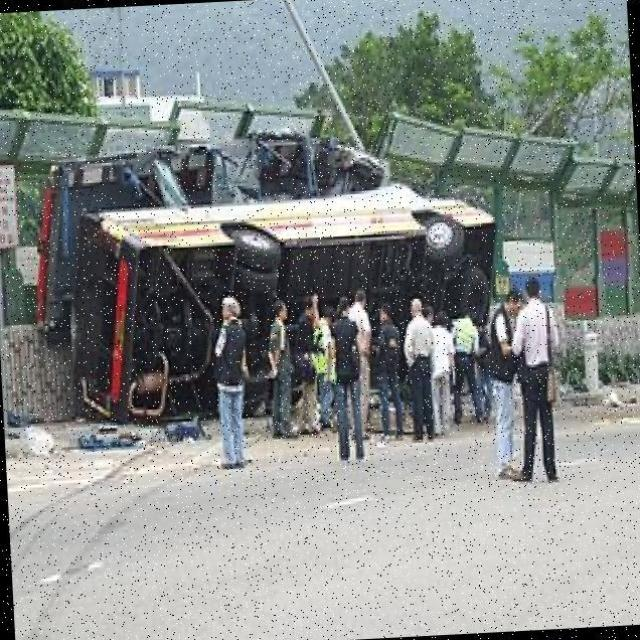accident: (18, 108, 514, 432)
